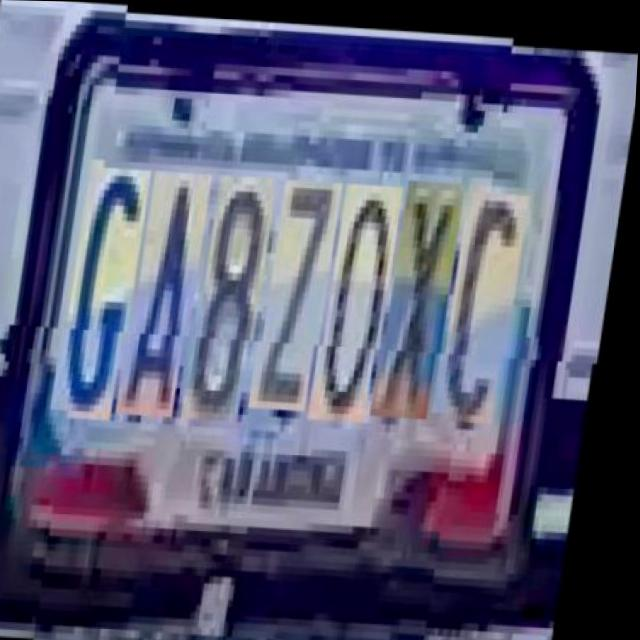8: (199, 171, 284, 419)
a: (133, 168, 218, 416)
c: (448, 178, 536, 410)
g: (66, 164, 157, 420)
o: (324, 179, 409, 418)
x: (386, 174, 471, 413)
z: (264, 175, 348, 407)
